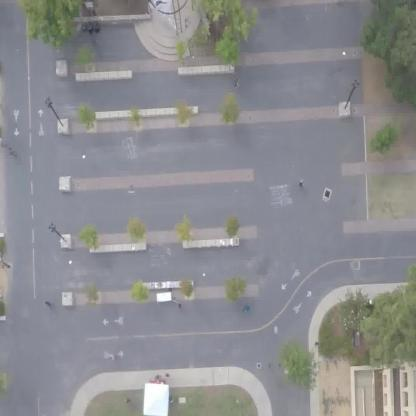Bicyclist: (9, 140, 25, 171), (42, 296, 58, 314), (233, 75, 244, 96), (239, 303, 254, 316), (298, 178, 306, 194)
Pedestrian: (122, 394, 136, 409), (311, 335, 321, 352), (164, 370, 174, 384), (173, 300, 185, 310), (151, 370, 161, 382)
